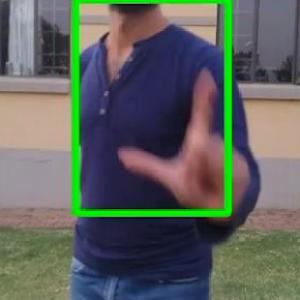land_hand: (117, 59, 250, 222)
